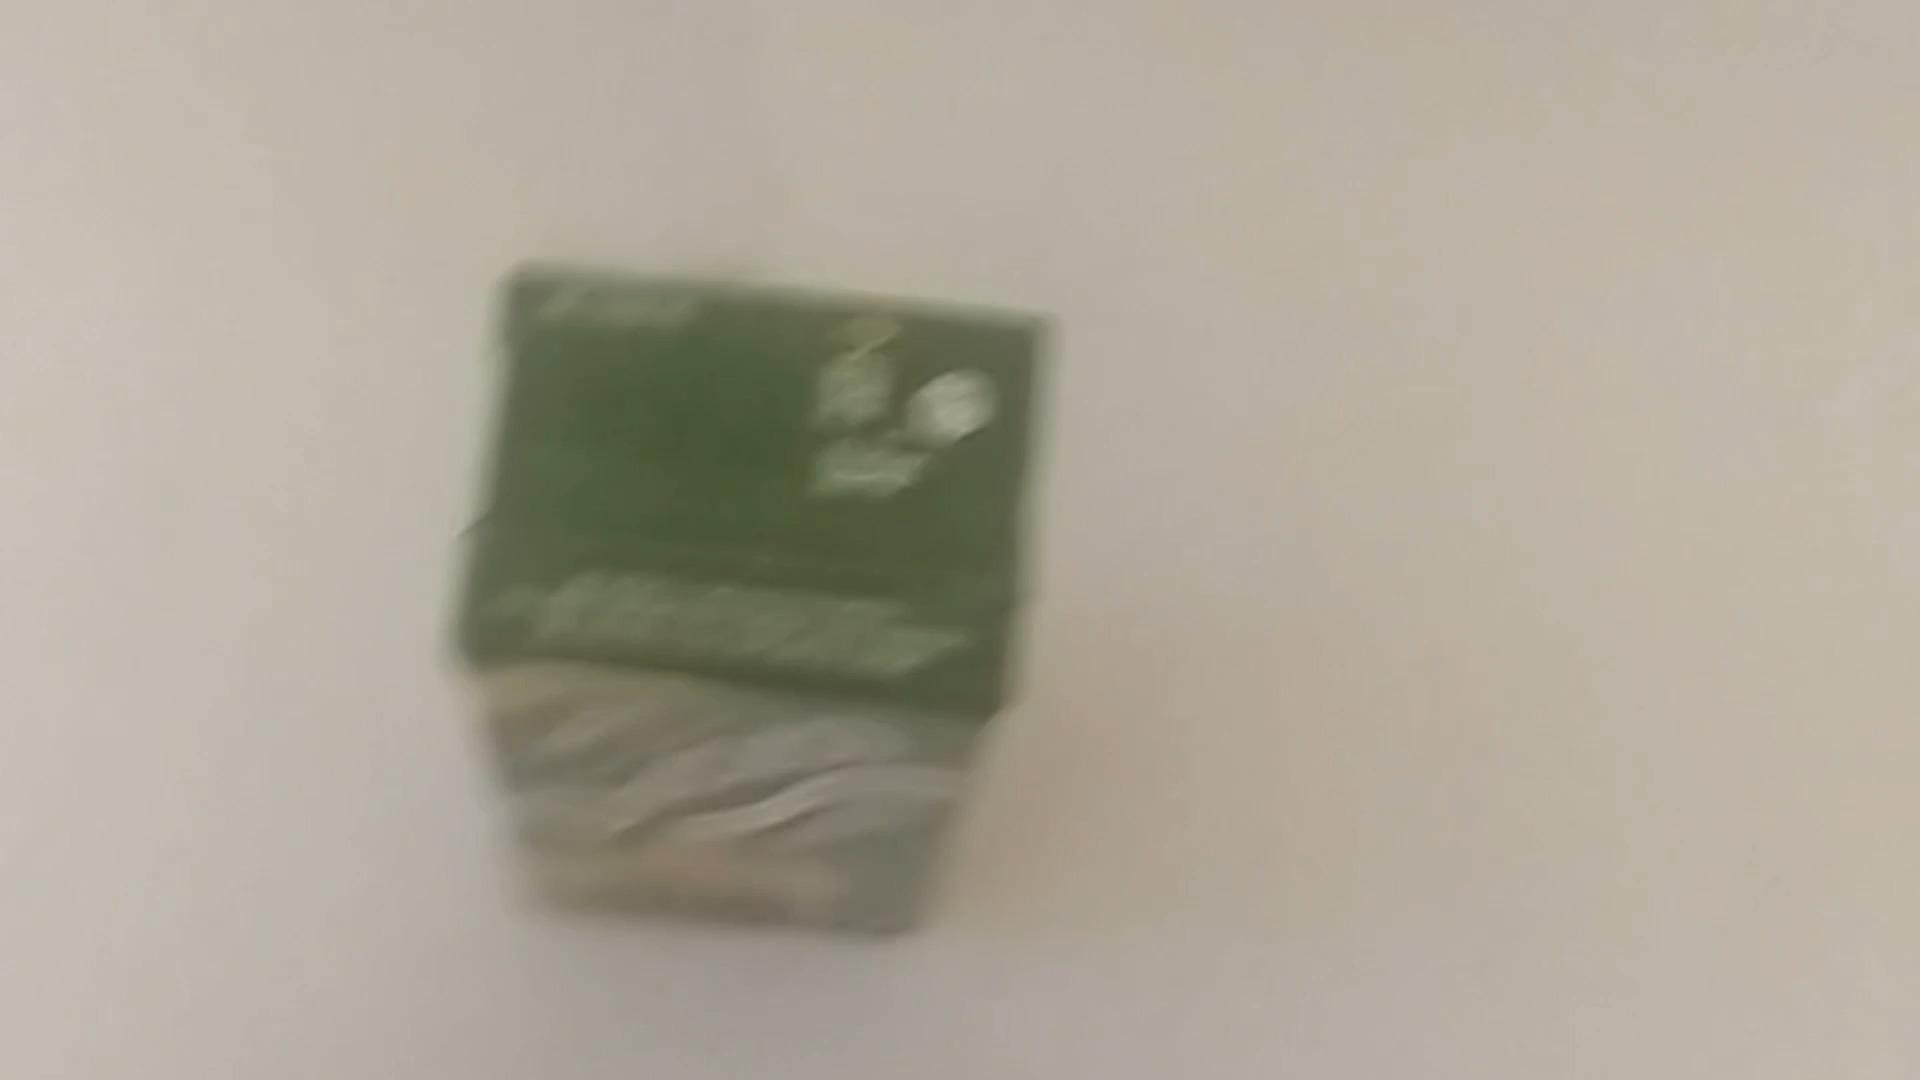coco: (450, 243, 1063, 955)
